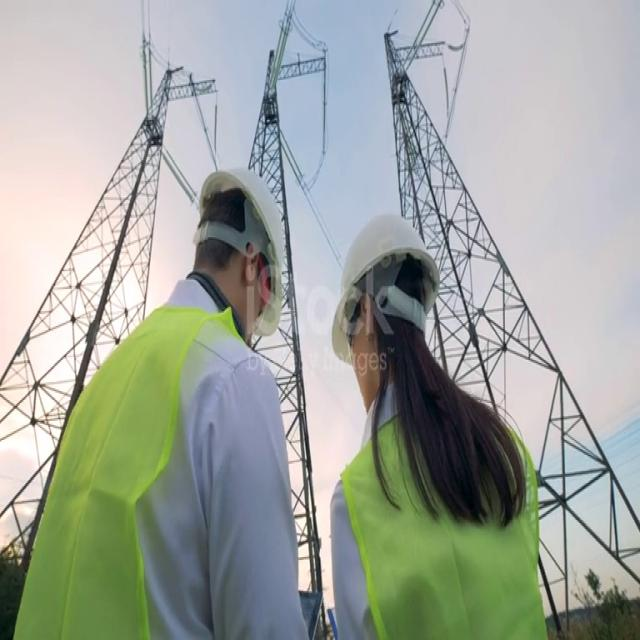capacete: (189, 140, 299, 351), (314, 204, 454, 361)
